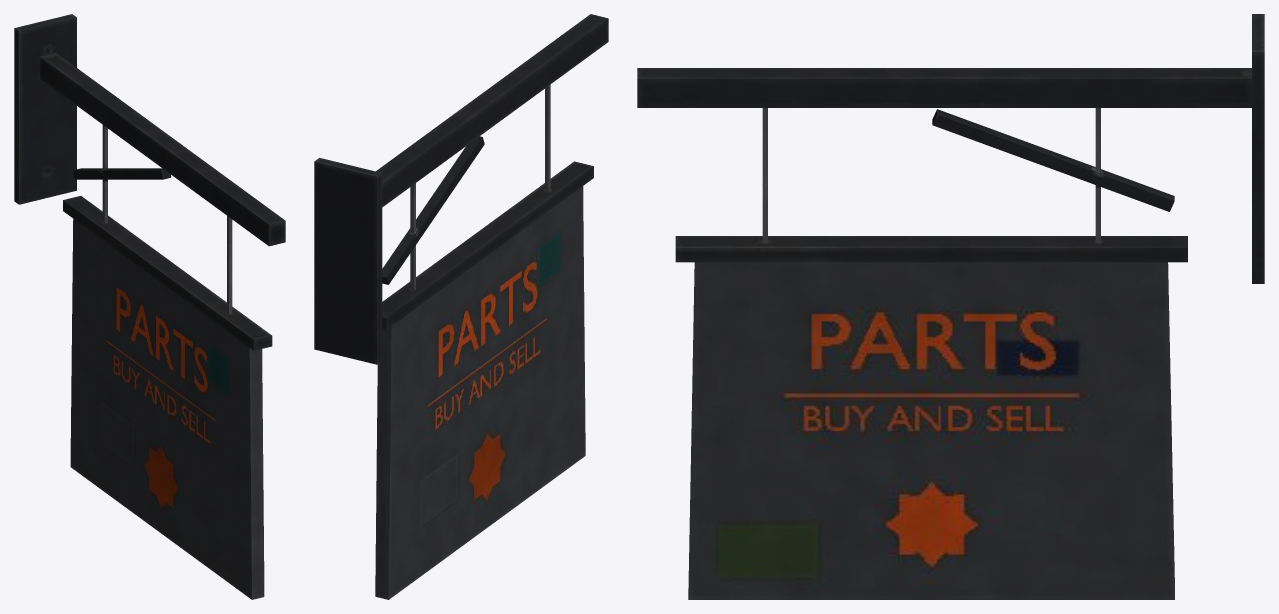
The model's file is shop_sign_parts.glb.
The picture shows the model from 3 angles, left to right: view 1: azimuth 30°, elevation 25°; view 2: azimuth 150°, elevation 25°; view 3: azimuth 270°, elevation 25°; orthographic projection. The views are drawn at different scales.
Parts seen in each view (by area): view 1: shop_sign_parts; view 2: shop_sign_parts; view 3: shop_sign_parts.
Boxes of the visible parts, x1,y1,x2,y2 form: shop_sign_parts: (14, 14, 285, 599); shop_sign_parts: (314, 14, 608, 599); shop_sign_parts: (637, 14, 1264, 599).
Size of the model in its own units: 0.14 by 0.97 by 0.98.
1 material, 1 textured.
